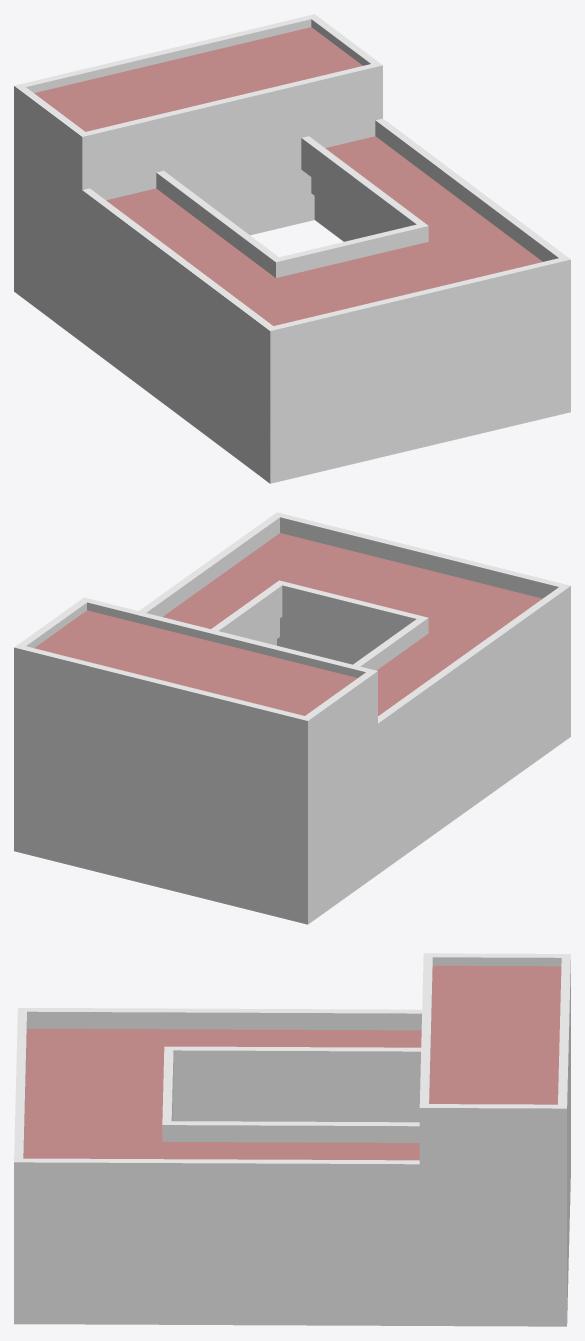
File: LOD_Block_4_79.glb
3 views of the same model, one above another, from view 1: azimuth 30°, elevation 25°; view 2: azimuth 150°, elevation 25°; view 3: azimuth 270°, elevation 25° (orthographic). The views are drawn at different scales.
Parts seen in each view (by area): view 1: mesh_CityEngineMaterial_1233; view 2: mesh_CityEngineMaterial_1233; view 3: mesh_CityEngineMaterial_1233.
Boxes of the visible parts, x1,y1,x2,y2 form: mesh_CityEngineMaterial_1233: (14, 14, 570, 483); mesh_CityEngineMaterial_1233: (14, 512, 570, 924); mesh_CityEngineMaterial_1233: (14, 953, 570, 1326).
Size of the model in its own units: 20.06 by 12.99 by 30.06.
